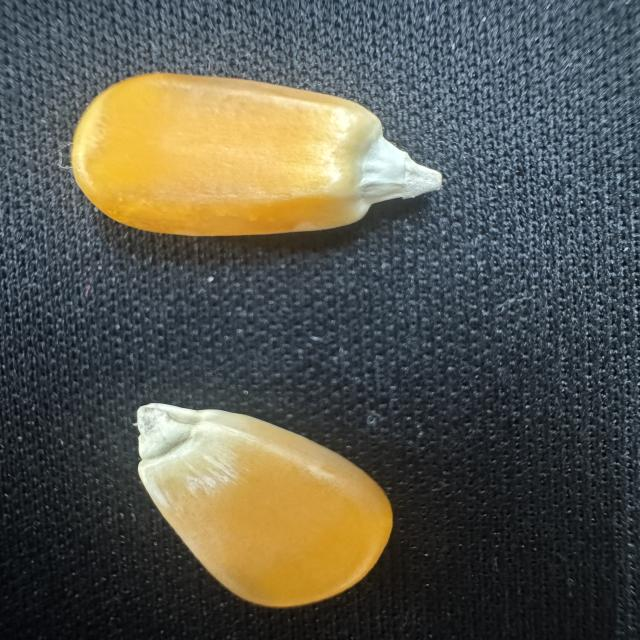Good-Seed: (62, 68, 447, 242), (129, 396, 399, 611)
